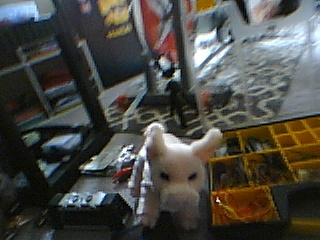piggy: (136, 121, 224, 232)
